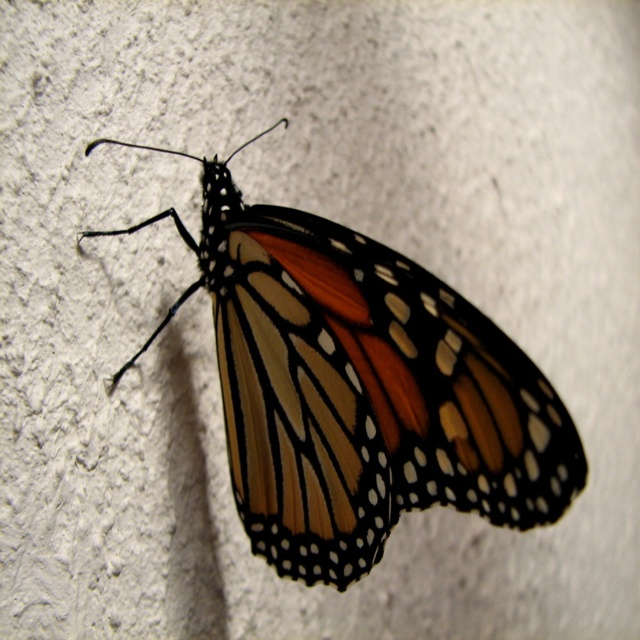Butterfly: (78, 118, 588, 595)
